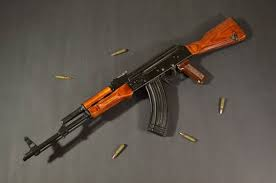Gun: (49, 17, 227, 144)
